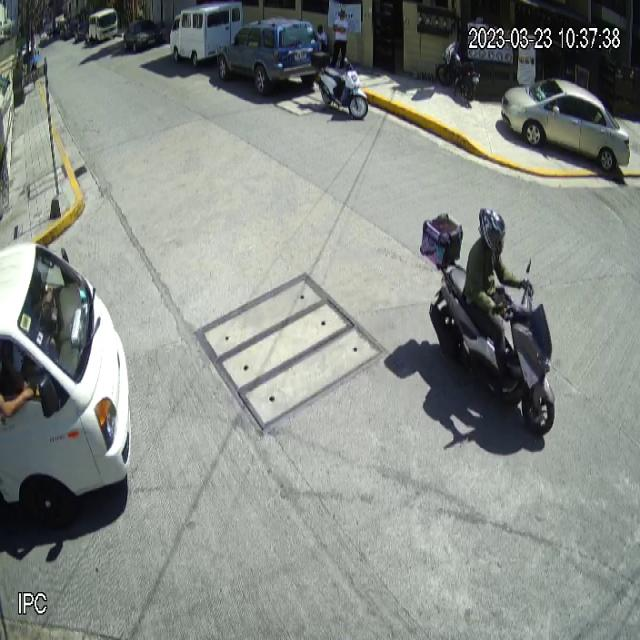Car: (500, 76, 631, 175), (216, 17, 322, 98)
Motorcycle: (425, 256, 557, 436), (311, 49, 371, 125)
Van: (169, 1, 245, 67)
